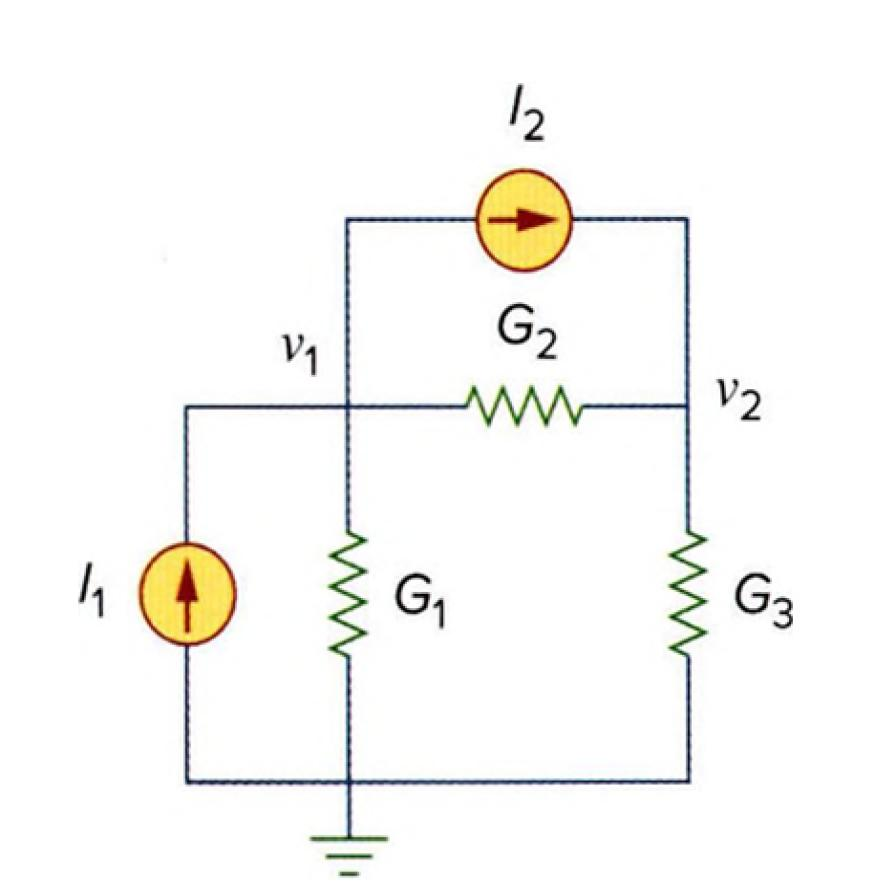I1: (138, 543, 235, 645)
I2: (476, 170, 571, 270)
R1: (447, 375, 594, 436)
R2: (315, 526, 383, 684), (653, 512, 714, 670)
